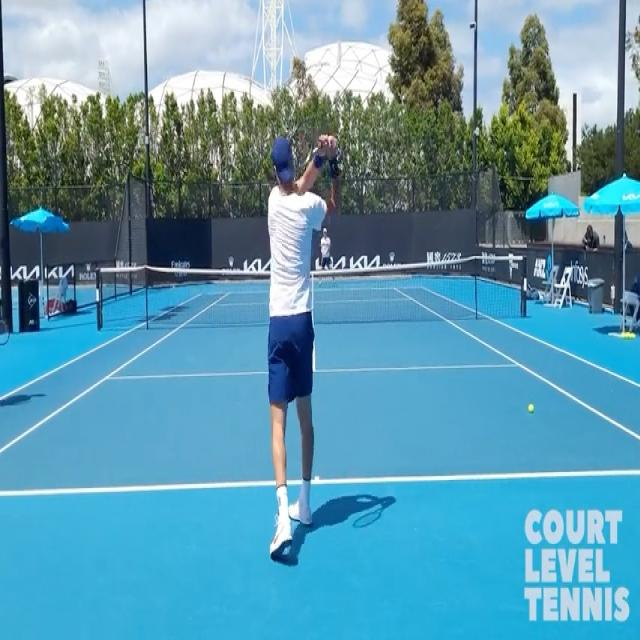backhand-finish: (220, 130, 358, 561)
